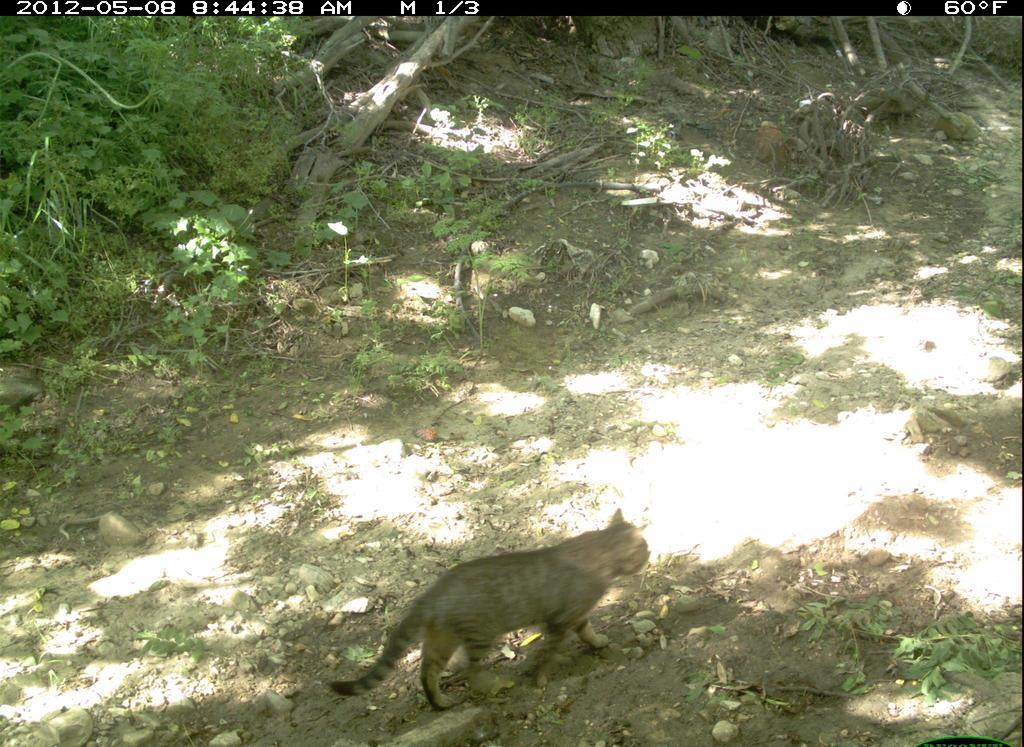cat: (324, 505, 658, 725)
